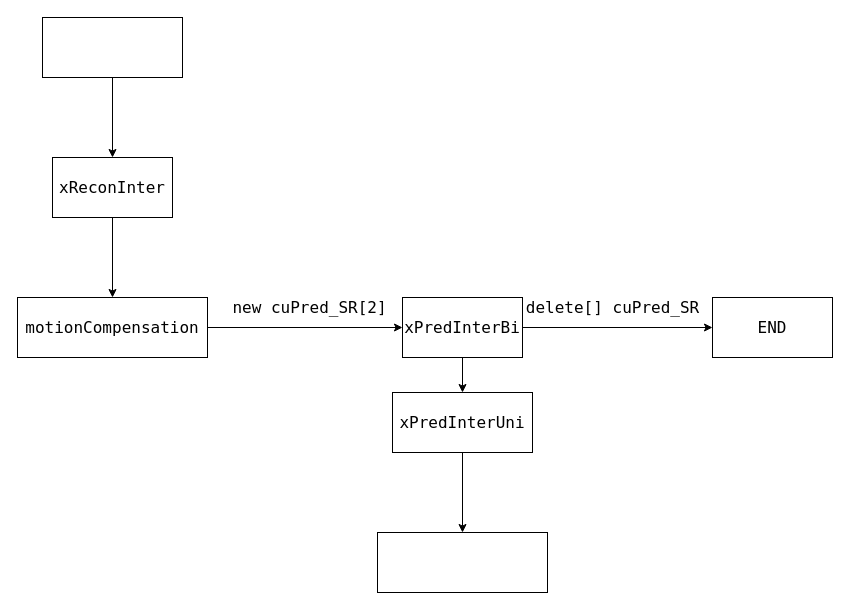
Image size: 850x610. Some labels were removed from this diagram. Here are the shapes that lost their labels. From the top down, the centre of each, then its label:
At (x=112, y=47): "xDecompressCU".
At (x=462, y=562): "xWeightedAverage".
